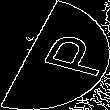P_W: (11, 29, 99, 81)
